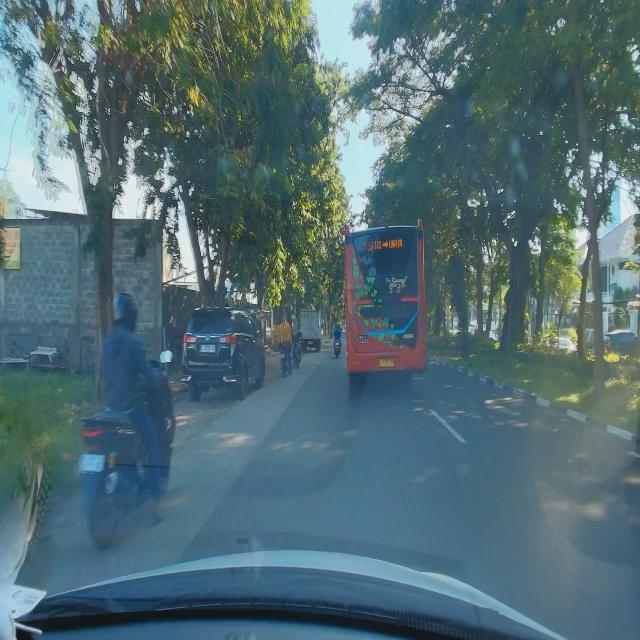bus: (342, 216, 428, 394)
car: (180, 305, 267, 400)
license-plate: (378, 357, 395, 368), (200, 344, 216, 354), (307, 341, 314, 345)
truck: (298, 306, 322, 353)
